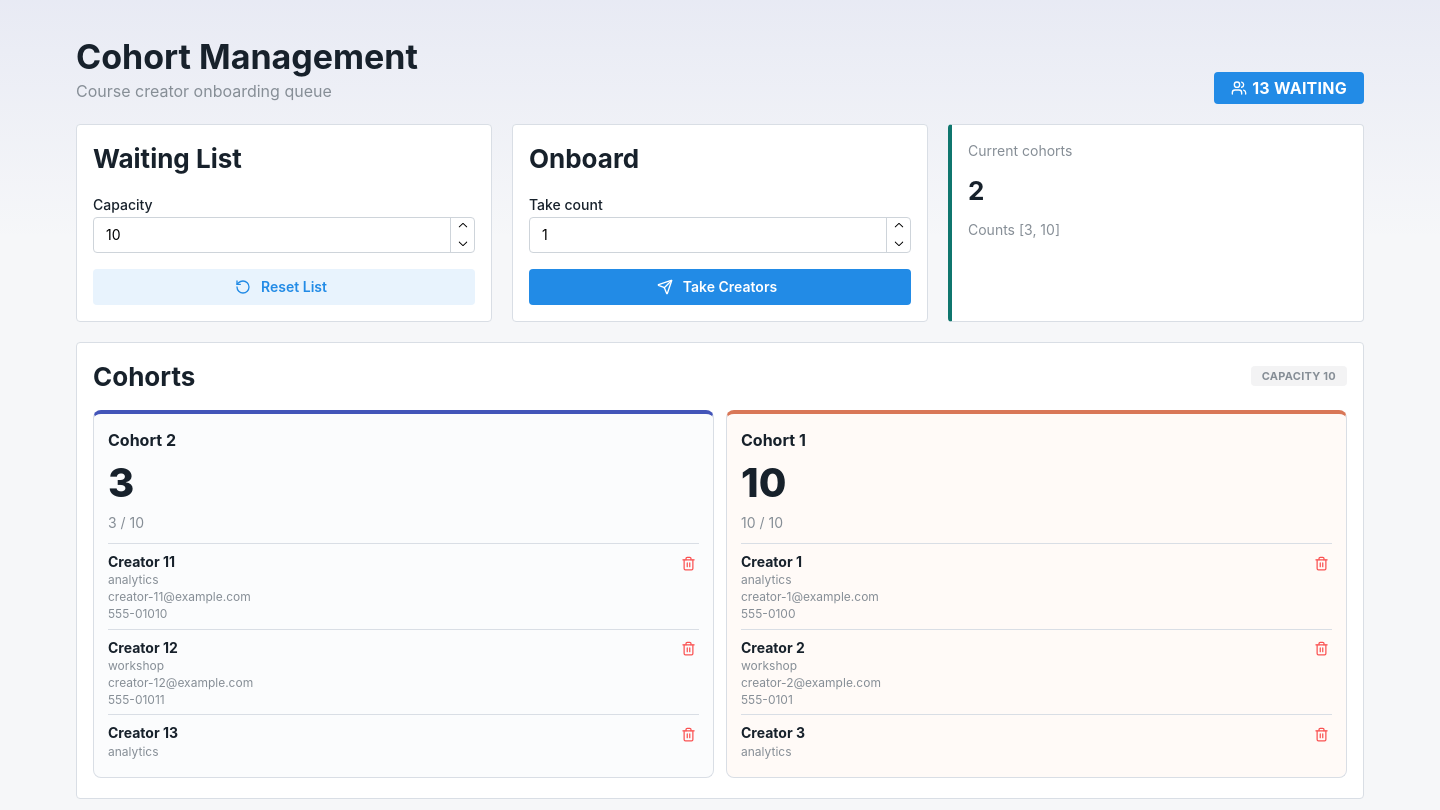
App › takes creators and shows recently removed rows
The width and height of the screenshot is (1440, 810).
Check: the text "13 waiting" is shown, box [1252,73,1347,103]
Click the button "Take Creators". click: (720, 287)
box: [529,269,911,305]
(page scrolled)
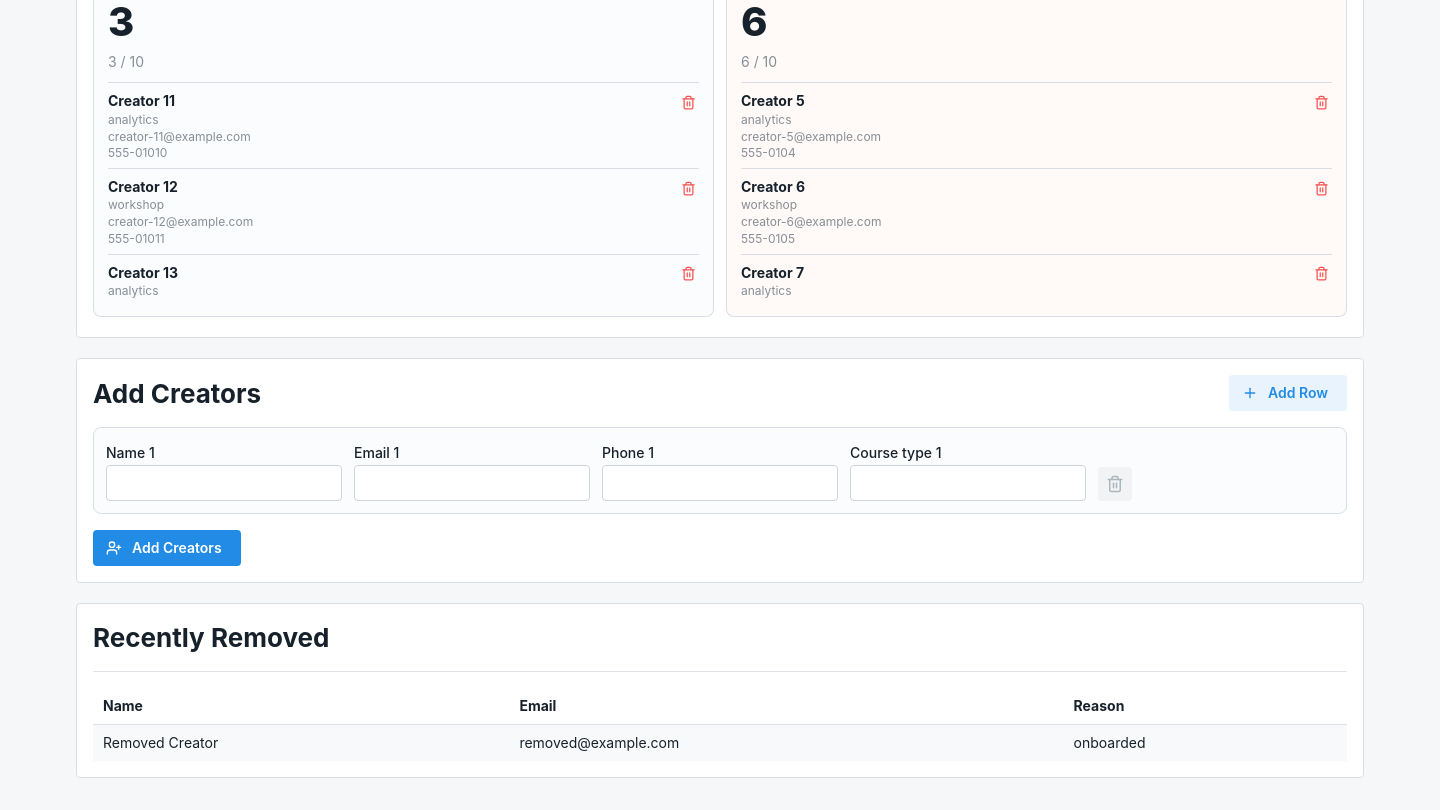
Check: the text "Removed Creator" is shown, box [93,724,509,761]
